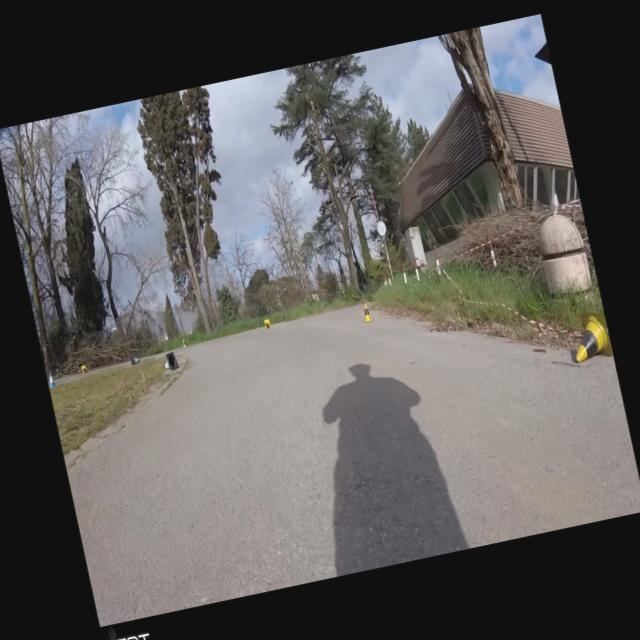blue_cone: (162, 351, 179, 371), (46, 370, 57, 388), (130, 354, 140, 366)
yellow_cone: (566, 308, 612, 364), (358, 302, 374, 323), (263, 318, 271, 328), (81, 364, 87, 372)
